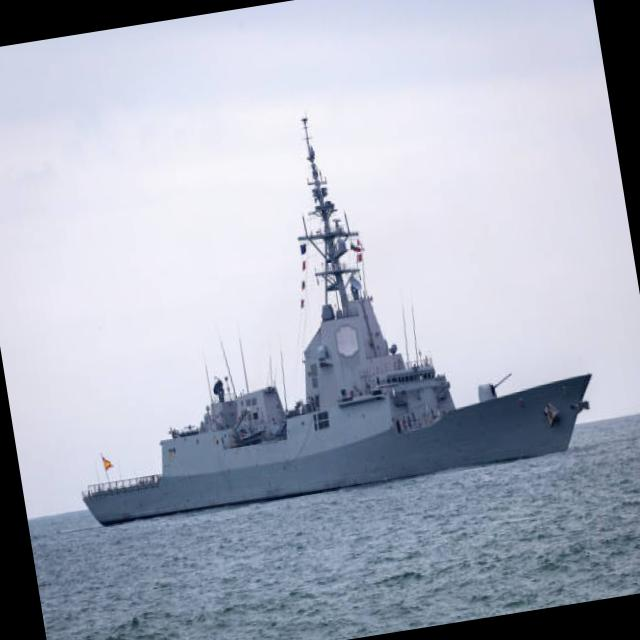Military: (85, 116, 593, 527)
